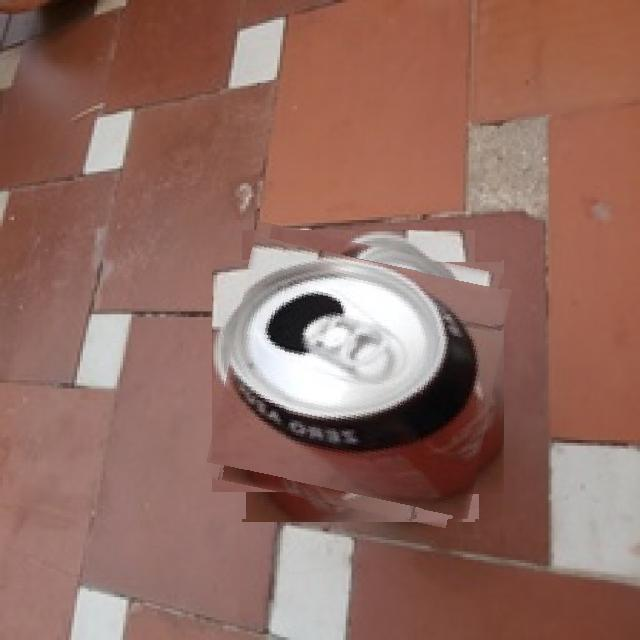recyclable: (215, 233, 502, 519)
